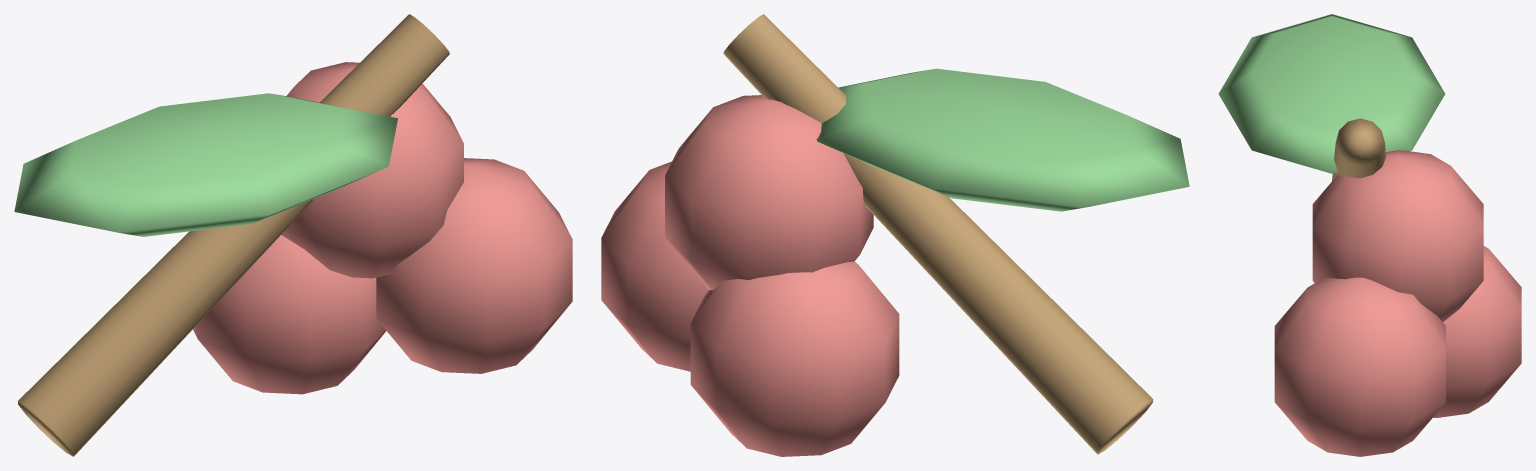
The model's file is berries.glb.
The picture shows the model from 3 angles, left to right: view 1: azimuth 30°, elevation 25°; view 2: azimuth 150°, elevation 25°; view 3: azimuth 270°, elevation 25°; orthographic projection. The views are drawn at different scales.
Bounding box in the file's own units: 0.2926 × 0.1904 × 0.1602.
